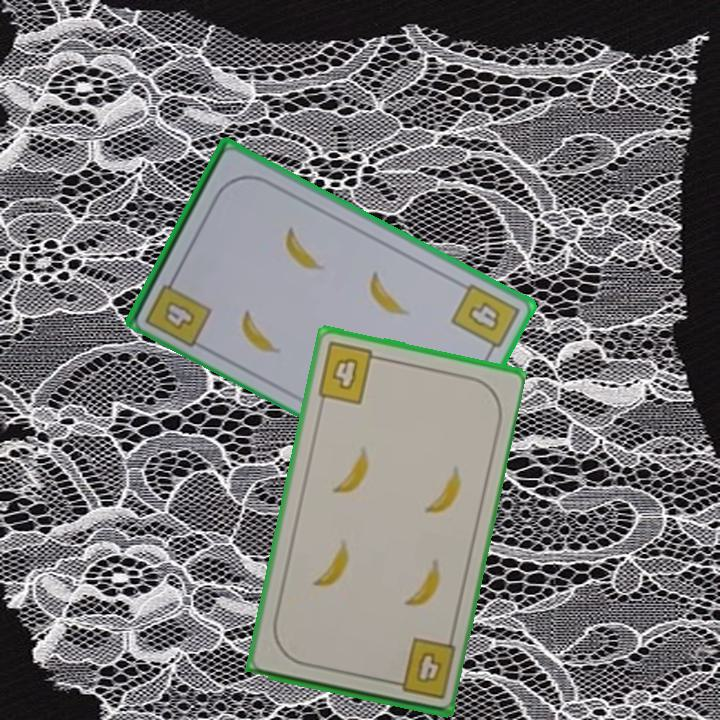4b: (447, 279, 523, 359), (141, 269, 214, 350), (385, 634, 459, 703), (313, 338, 386, 407)
